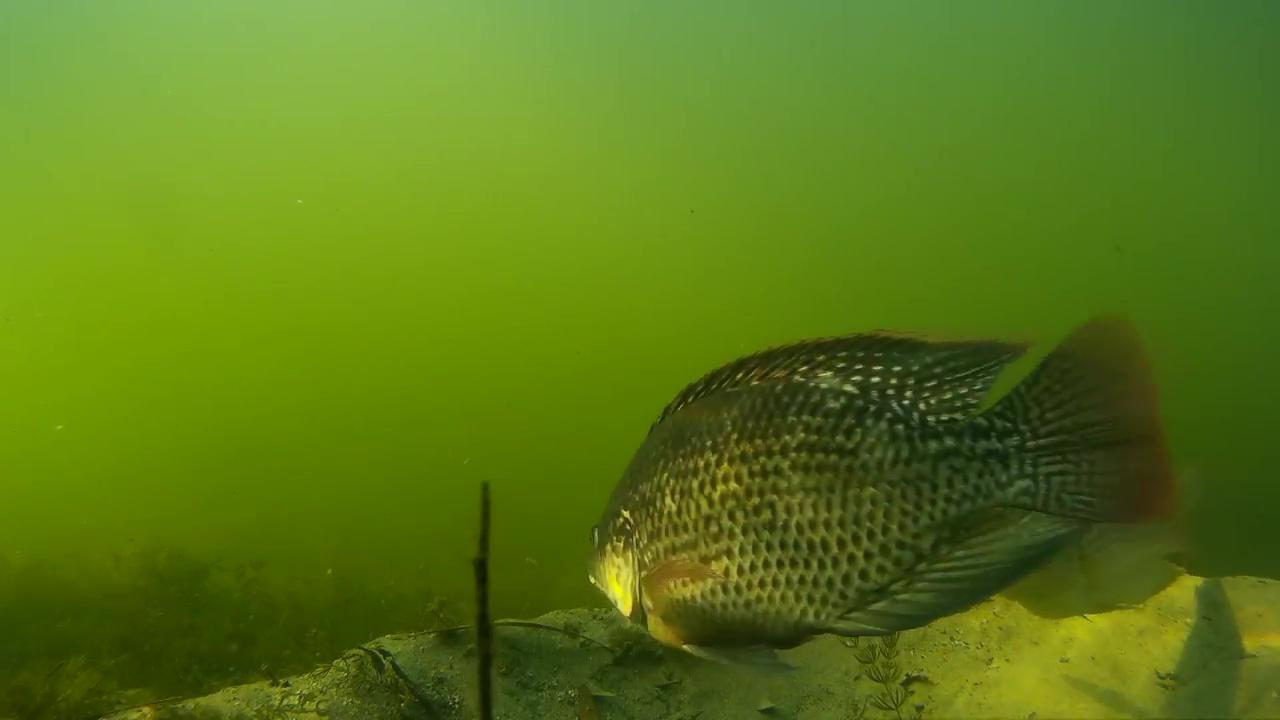Tilapia: (587, 306, 1188, 678)
